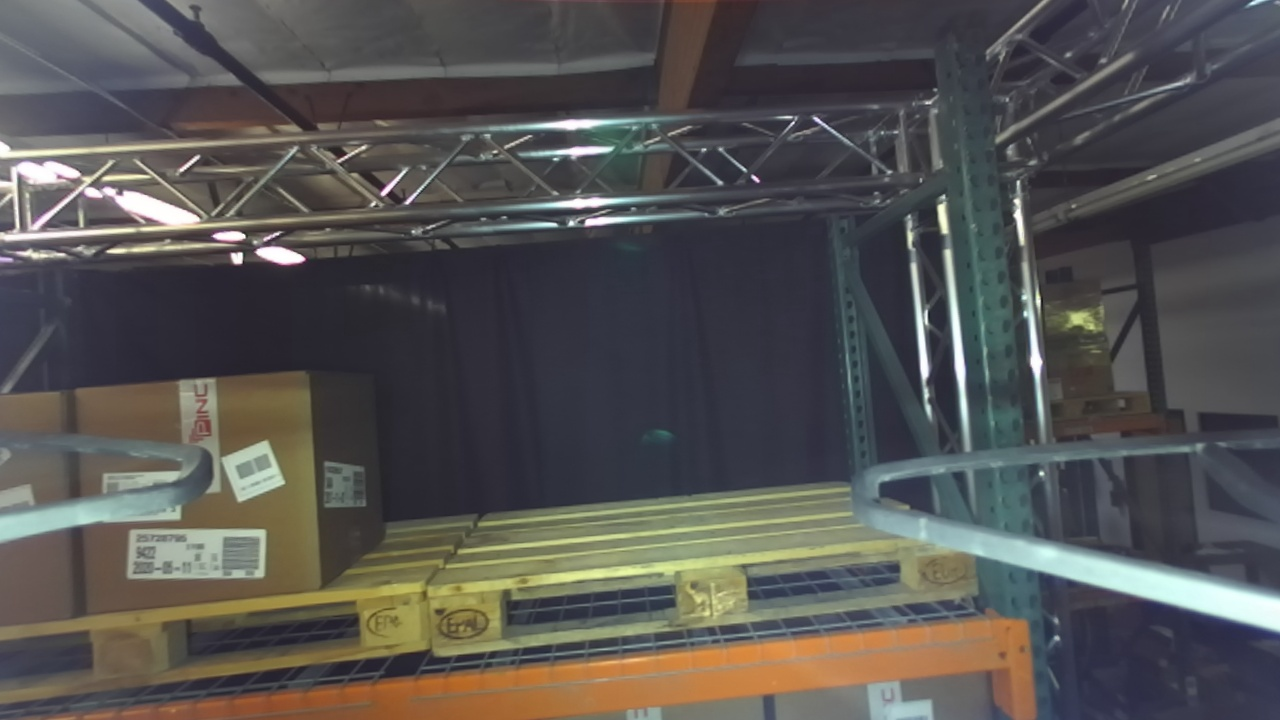box: (51, 355, 347, 634)
